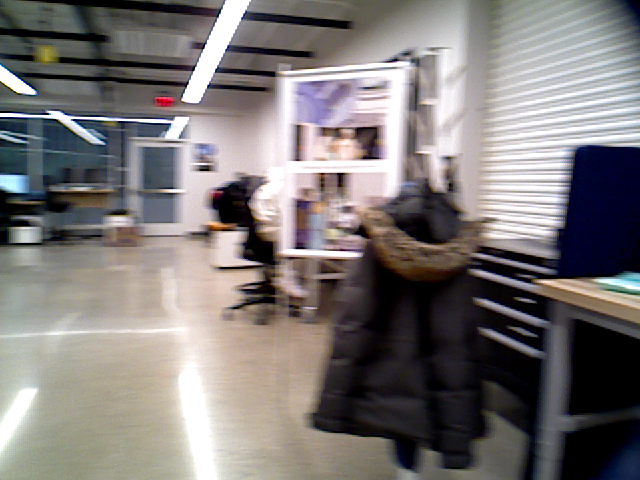painting3: (191, 142, 218, 175)
